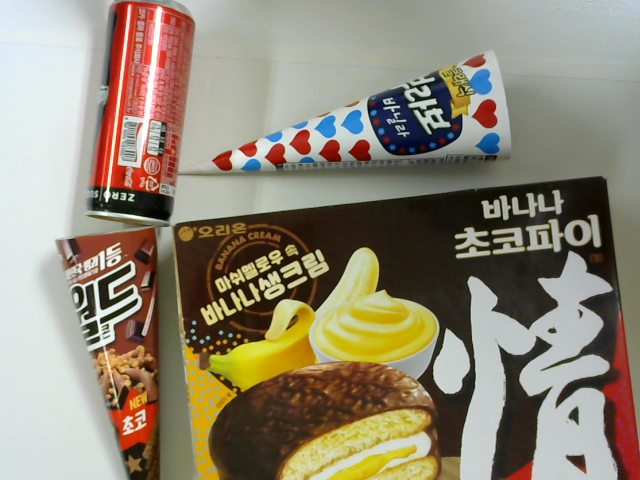Bravo_Cone_(Banila)_CVS: (179, 46, 513, 184)
Choco_Pie_Banana: (173, 174, 638, 480)
Coca_Cola_Zero_Can_250ml: (87, 1, 200, 227)
World_Cone_Choco: (57, 225, 163, 480)
